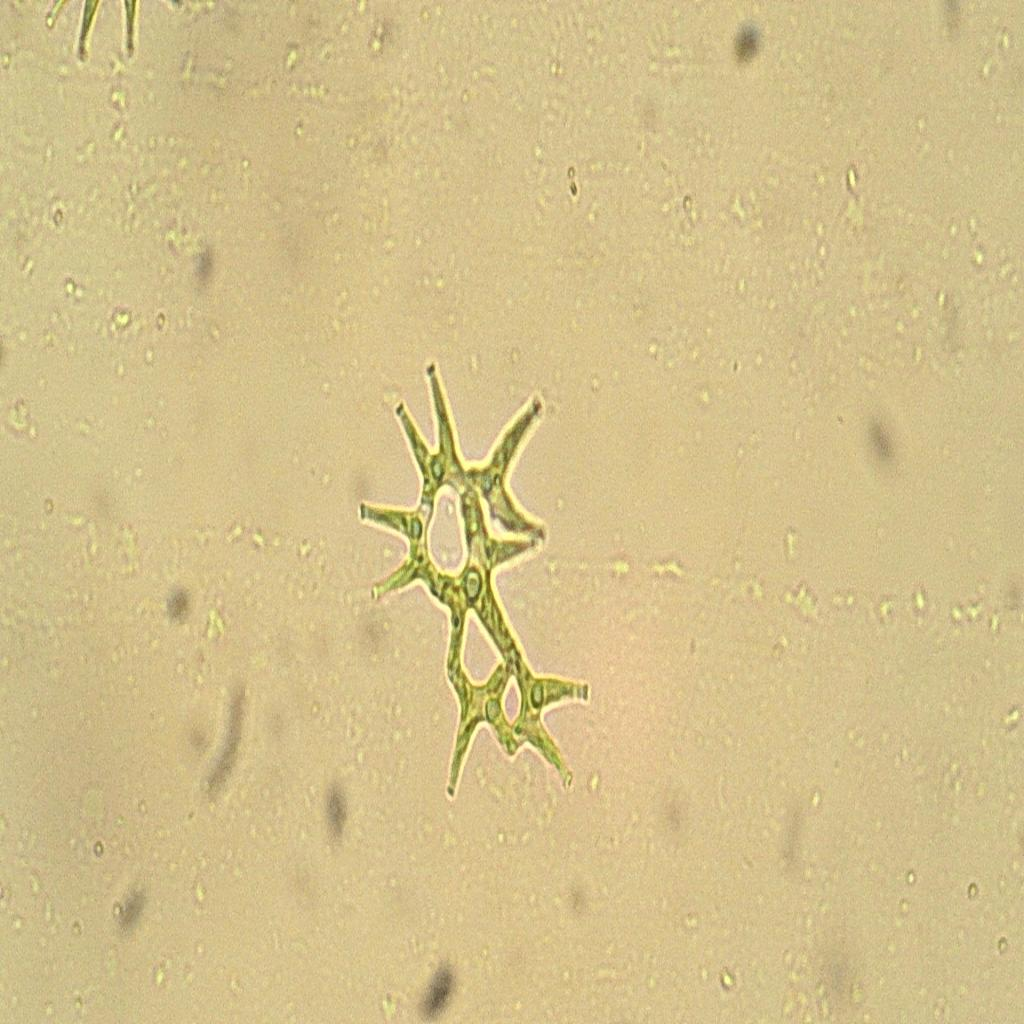Pediastrum_1TH: (337, 350, 619, 806)
